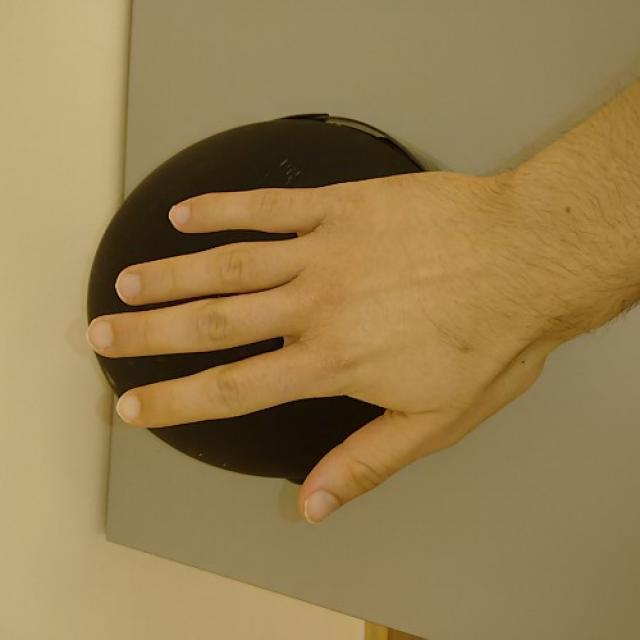paper: (87, 177, 560, 526)
